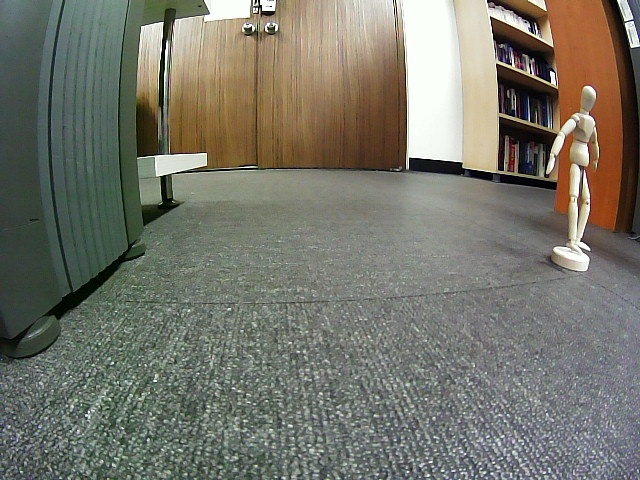person: (546, 85, 599, 255)
